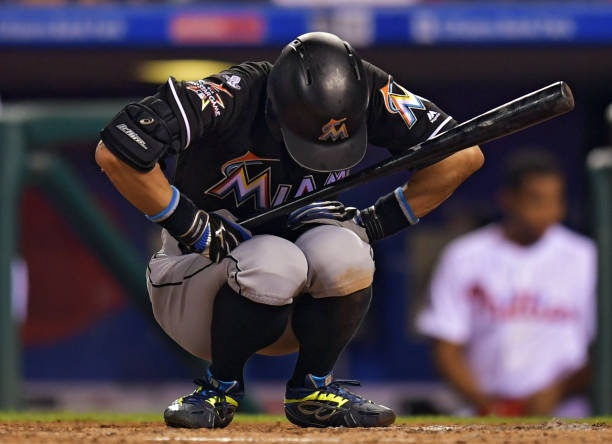bita: (189, 79, 569, 255)
